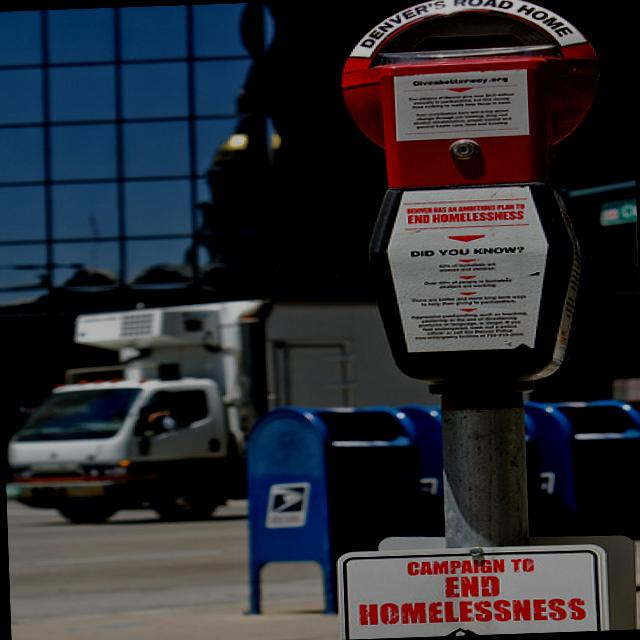Vehicle: (0, 292, 443, 524)
